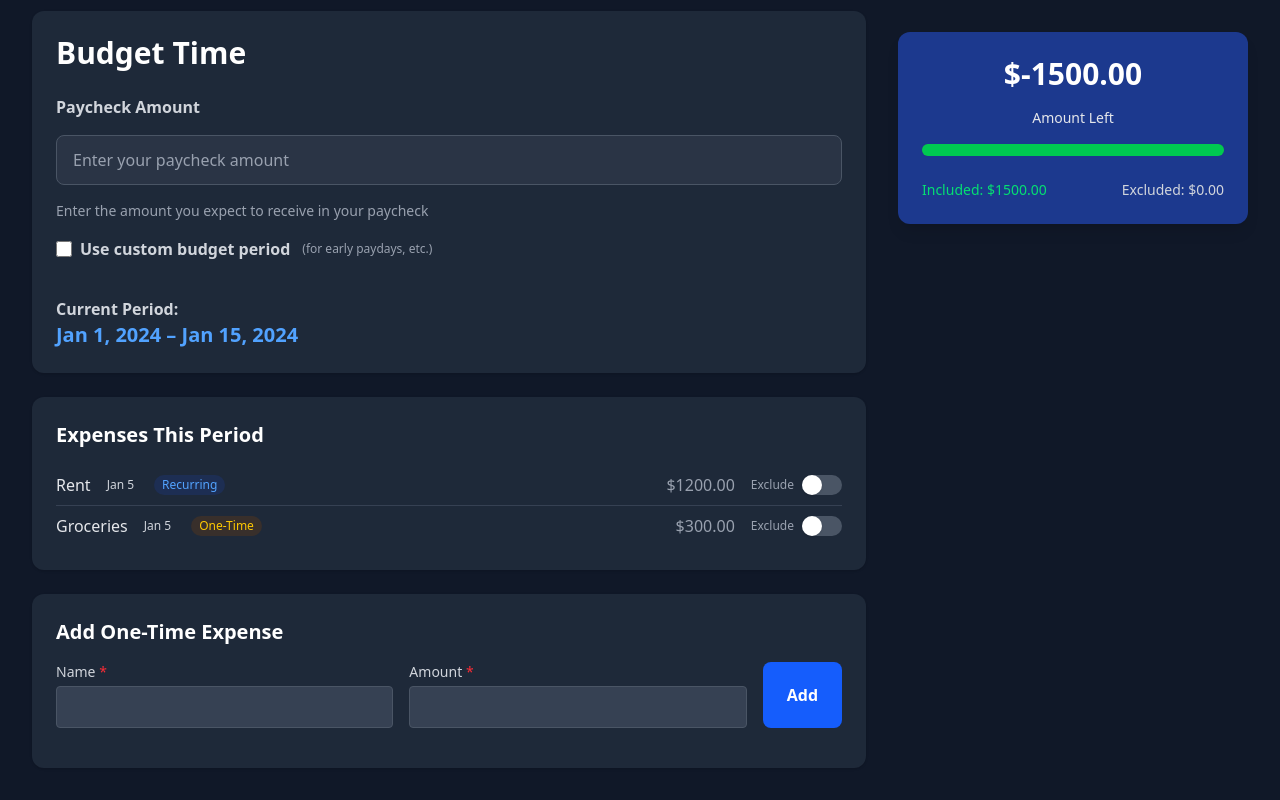
Test: BudgetTime Page › handles adding one-time expenses
This screenshot has width=1280, height=800.
(page scrolled)
Type "Movie Tickets" into the field labelled "Name *" at (225, 707), box [56,686,393,728]
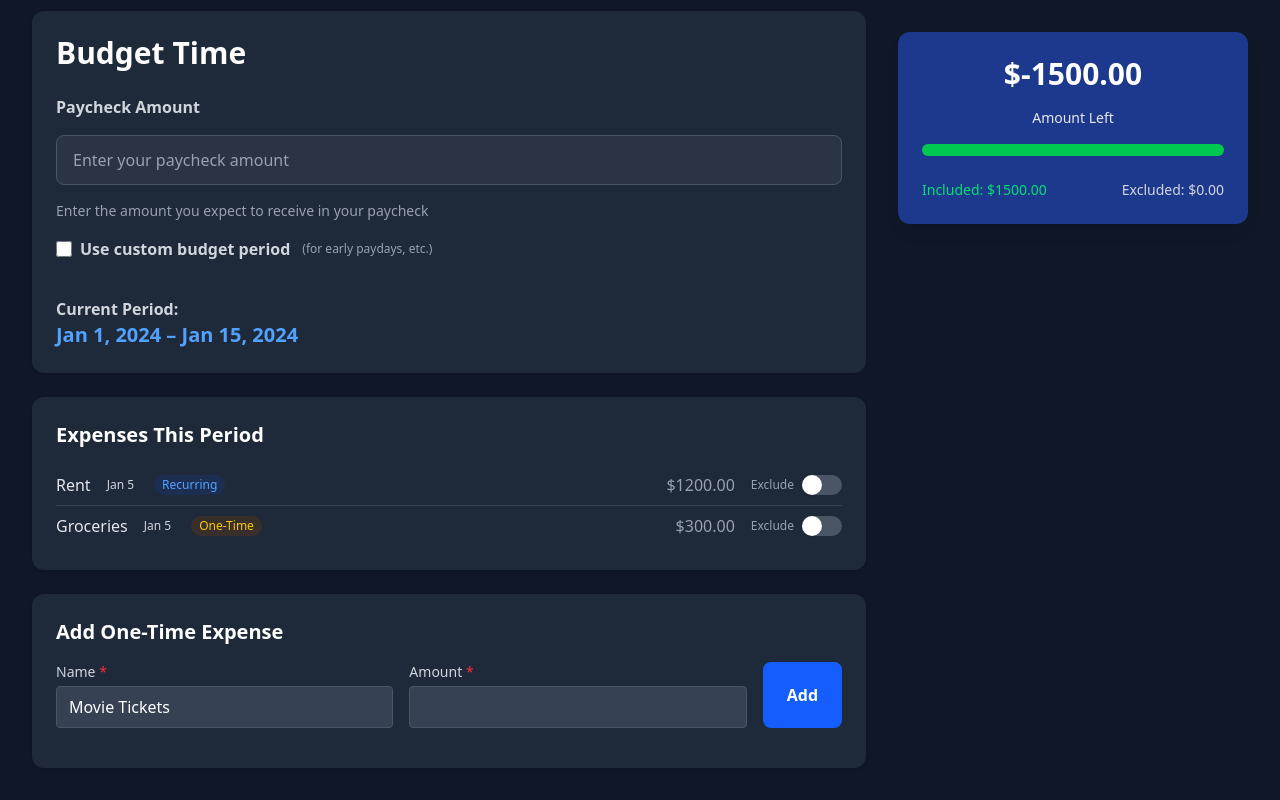
Type "50" into the field labelled "Amount *" at (578, 707), box [409,686,747,728]
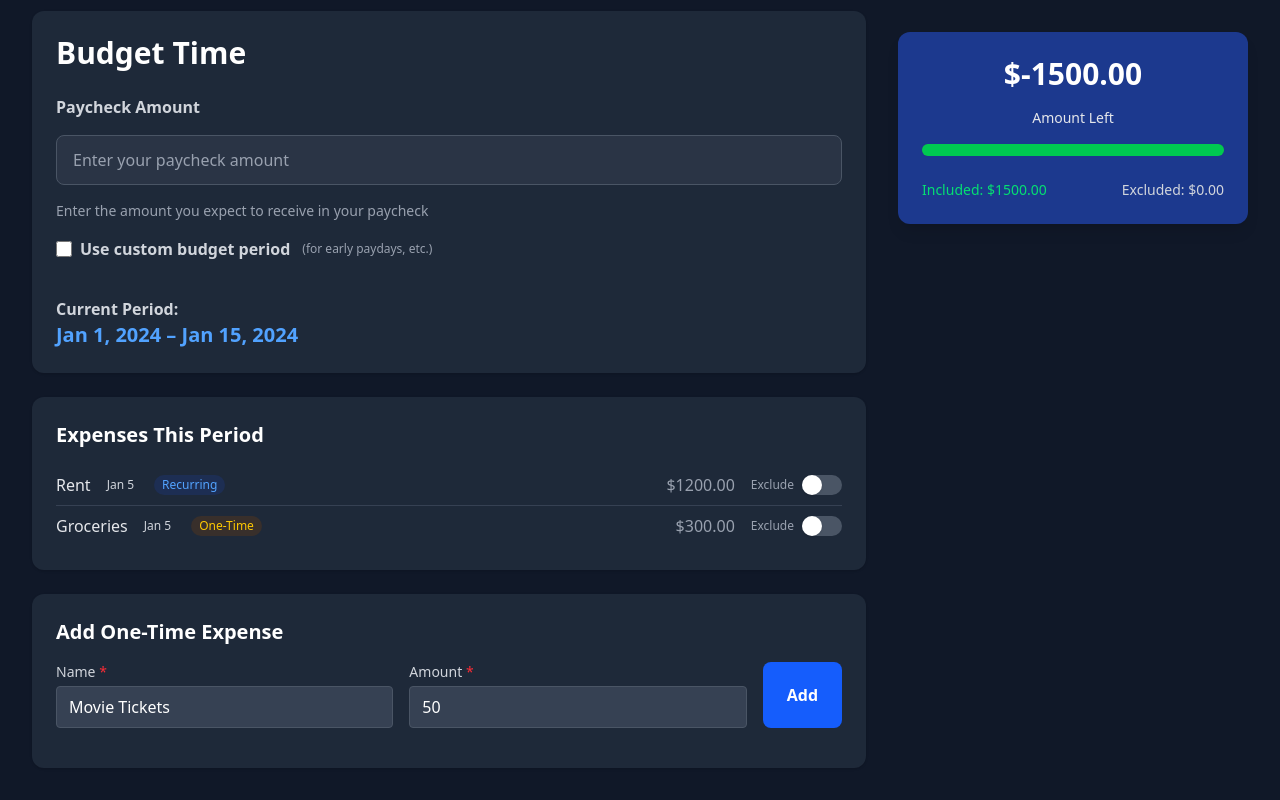
Click the button "Add" at (802, 695), box [763,662,842,728]
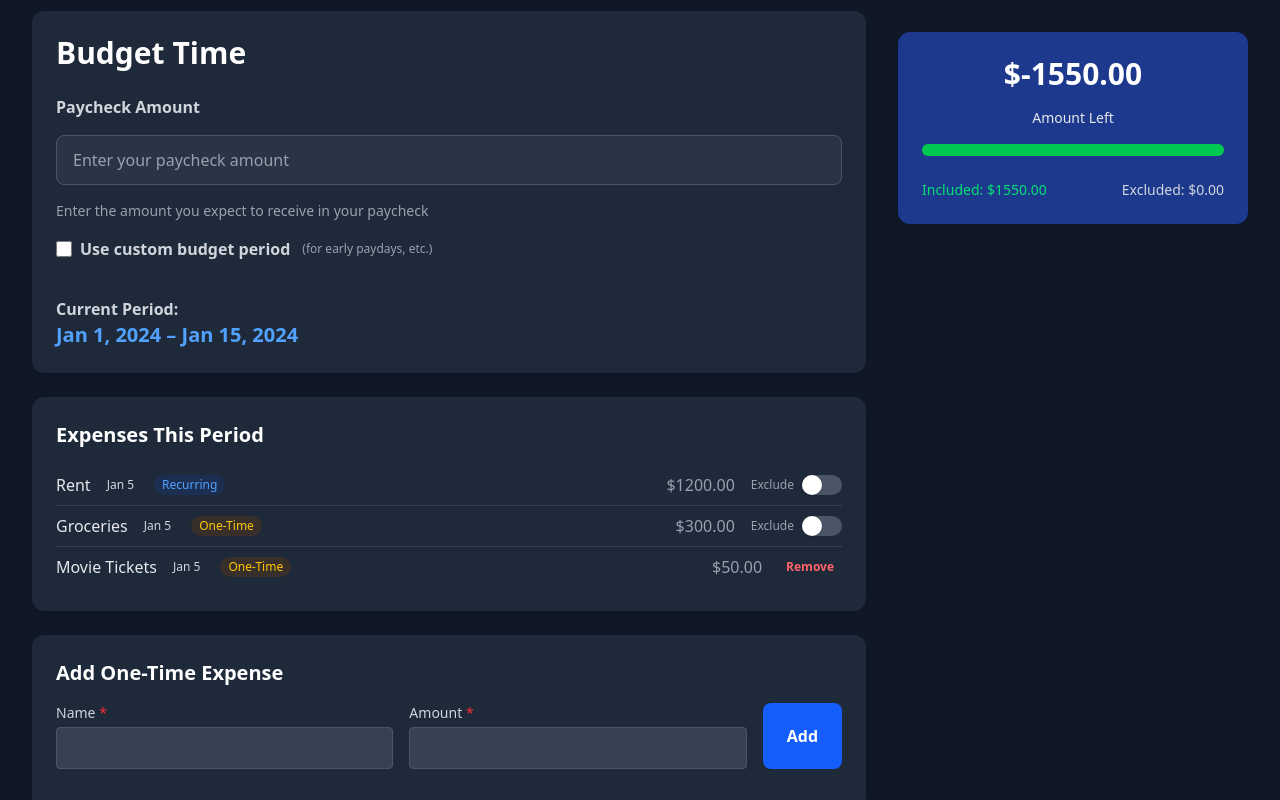
Expected: the text "Movie Tickets" is shown, [56,556,157,578]
Expected: the text "$50.00" is shown, [712,555,762,579]
Expected: the text "One-Time" is shown 2 times, [191,516,262,536]; [220,557,291,577]
